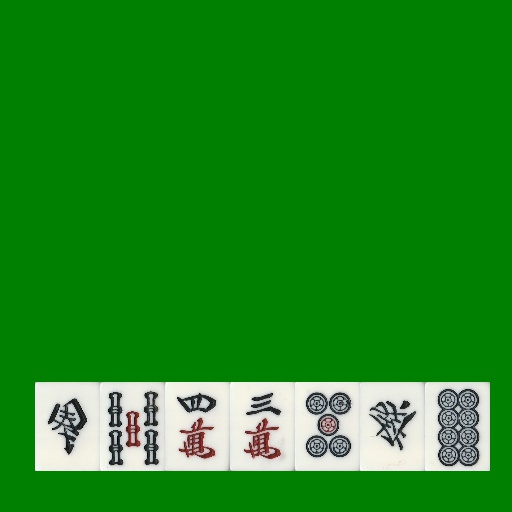3m: (230, 382, 295, 471)
4m: (165, 382, 230, 471)
5p: (295, 382, 360, 471)
5s: (100, 382, 165, 471)
8p: (425, 382, 490, 471)
hatsu: (360, 382, 425, 471)
south: (35, 382, 100, 471)
